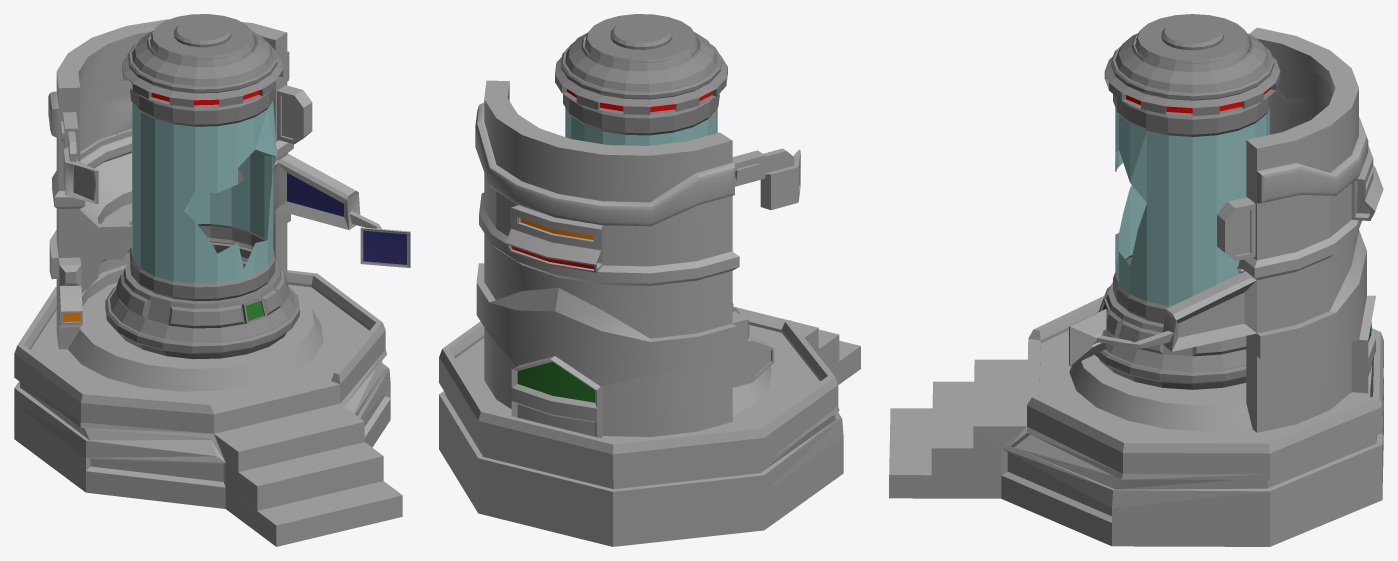
The picture shows the model from 3 angles, left to right: view 1: azimuth 30°, elevation 25°; view 2: azimuth 150°, elevation 25°; view 3: azimuth 270°, elevation 25°; orthographic projection. The views are drawn at different scales.
Visible parts, largest first — view 1: pCylinder3, pCylinder1, pCylinder12; view 2: pCylinder12, pCylinder3, pCylinder1; view 3: pCylinder3, pCylinder12, pCylinder1.
Boxes of the visible parts, x1=… form: pCylinder3: x1=14, y1=270, x2=402, y2=546; pCylinder1: x1=105, y1=14, x2=299, y2=359; pCylinder12: x1=48, y1=19, x2=410, y2=391; pCylinder12: x1=475, y1=80, x2=800, y2=438; pCylinder3: x1=439, y1=306, x2=860, y2=546; pCylinder1: x1=555, y1=14, x2=740, y2=314; pCylinder3: x1=889, y1=296, x2=1383, y2=546; pCylinder12: x1=1069, y1=27, x2=1383, y2=432; pCylinder1: x1=1094, y1=14, x2=1280, y2=389.
Bounding box in the file's own units: 7.44 × 9.3 × 9.59.
